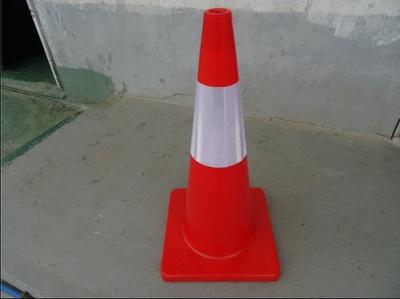cone_barrel: (170, 14, 265, 271)
